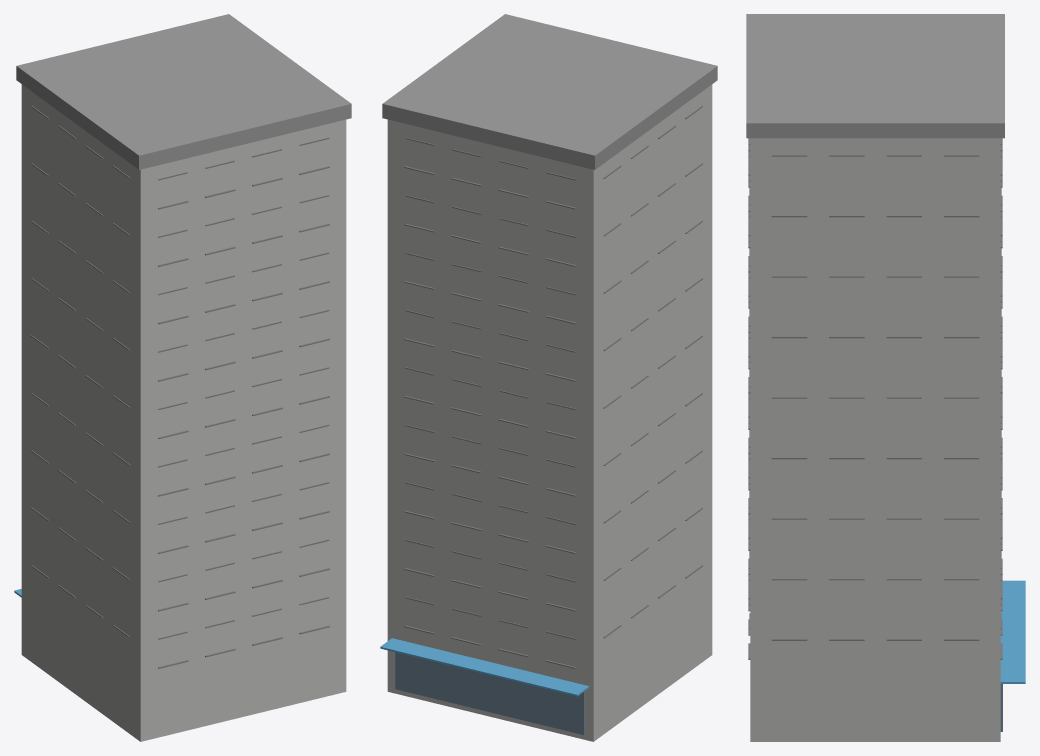
Rendered from Building_Tower_B.fbx.
3 views of the same model, side by side, from view 1: azimuth 30°, elevation 25°; view 2: azimuth 150°, elevation 25°; view 3: azimuth 270°, elevation 25° (orthographic). The views are drawn at different scales.
Parts seen in each view (by area): view 1: Building_Tower_B_Mesh; view 2: Building_Tower_B_Mesh; view 3: Building_Tower_B_Mesh.
Part boxes in pixels (x1,y1,x2,y2): Building_Tower_B_Mesh: [14, 14, 351, 741]; Building_Tower_B_Mesh: [380, 14, 717, 741]; Building_Tower_B_Mesh: [746, 14, 1025, 741].
Size of the model in its own units: 12.4 by 13.4 by 32.8.
